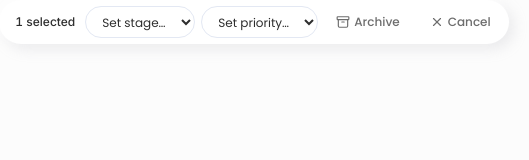
Test case: DealBulkBar › clears the priority
The image size is (529, 160).
Select "No priority" in the dropdown named "Set priority" at (260, 22), box [201,6,318,38]
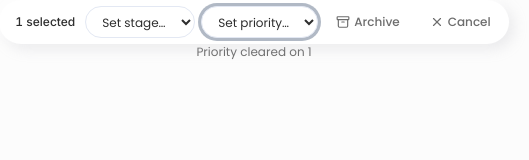
expect the message reads "Priority cleared on 1": met, box [196,43,312,60]
